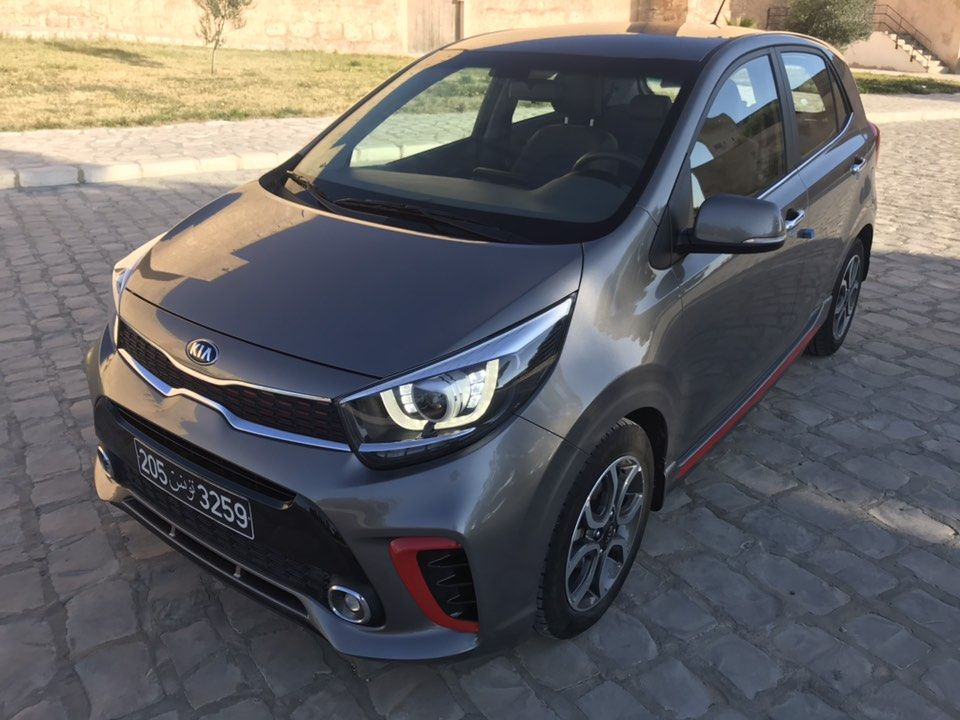LP: (130, 435, 257, 542)
